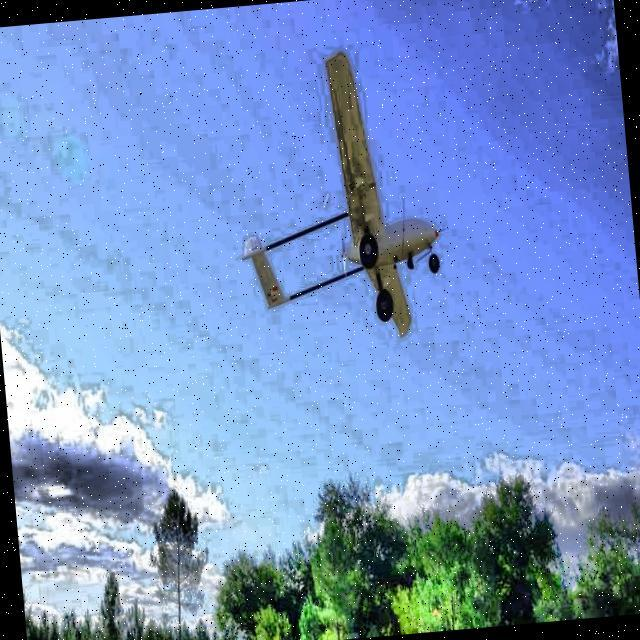iha: (206, 32, 479, 378)
